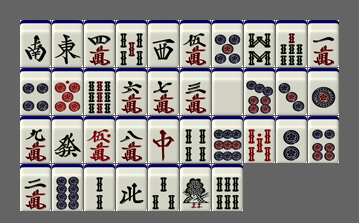0m: (84, 116, 115, 163)
0p: (52, 68, 83, 115)
0s: (244, 116, 275, 163)
1m: (308, 20, 339, 67)
1p: (308, 68, 339, 115)
1s: (180, 164, 211, 211)
1z: (52, 20, 83, 67)
2m: (20, 164, 51, 211)
2p: (276, 116, 307, 163)
2s: (84, 164, 115, 211)
2z: (20, 20, 51, 67)
3m: (180, 68, 211, 115)
3p: (276, 68, 307, 115)
3s: (148, 164, 179, 211)
3z: (148, 20, 179, 67)
4m: (84, 20, 115, 67)
4p: (20, 68, 51, 115)
4s: (180, 116, 211, 163)
4z: (116, 164, 147, 211)
5m: (180, 20, 211, 67)
5p: (212, 20, 243, 67)
5s: (116, 20, 147, 67)
5z: (212, 68, 243, 115)
6m: (116, 68, 147, 115)
6p: (308, 116, 339, 163)
6s: (212, 164, 243, 211)
6z: (52, 116, 83, 163)
7m: (148, 68, 179, 115)
7p: (244, 68, 275, 115)
7s: (276, 20, 307, 67)
7z: (148, 116, 179, 163)
8m: (116, 116, 147, 163)
8p: (52, 164, 83, 211)
8s: (244, 20, 275, 67)
9m: (20, 116, 51, 163)
9p: (212, 116, 243, 163)
9s: (84, 68, 115, 115)
